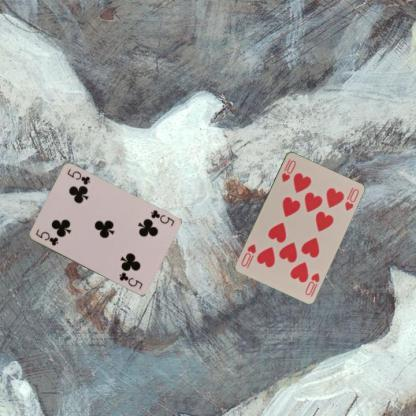10h: (280, 156, 298, 183), (302, 270, 320, 297)
5c: (32, 226, 60, 247), (148, 207, 175, 228)
